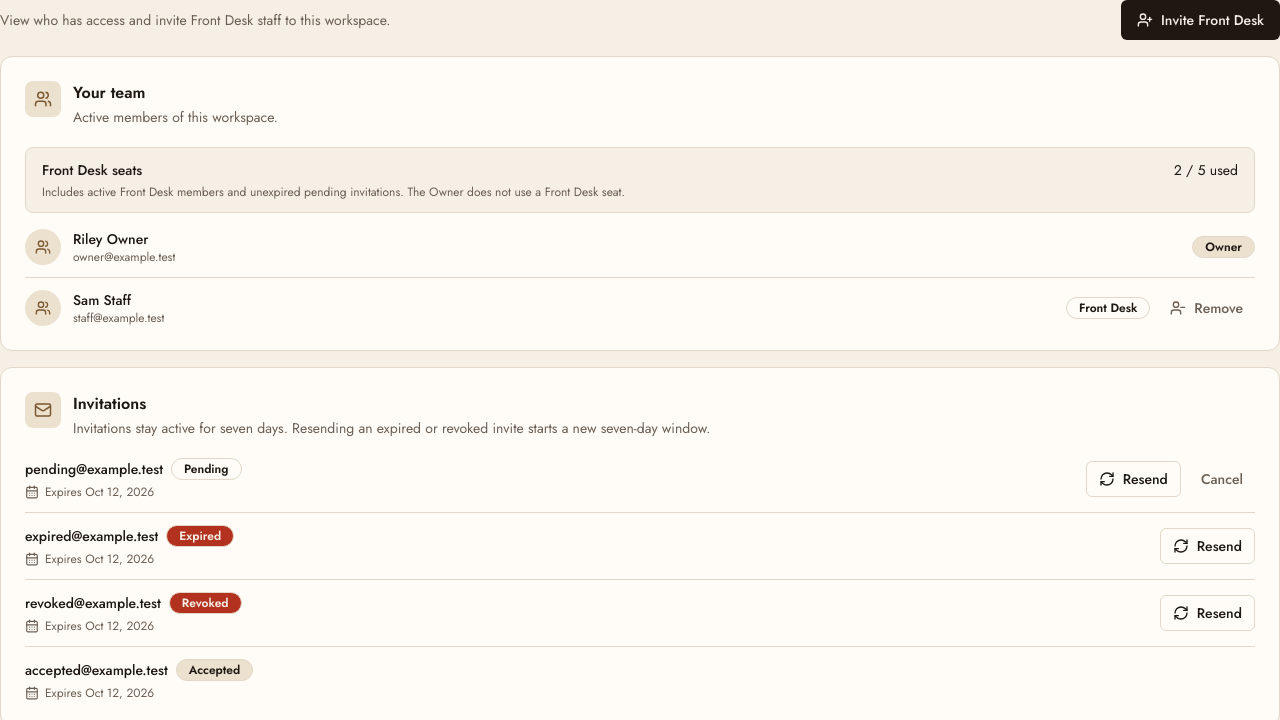
Test: MembersSettingsPage › creates a fixed-role Front Desk invitation once with an idempotency key
The image size is (1280, 720).
Click the button "Invite Front Desk".
click(1200, 20)  # box [1121,0,1279,40]
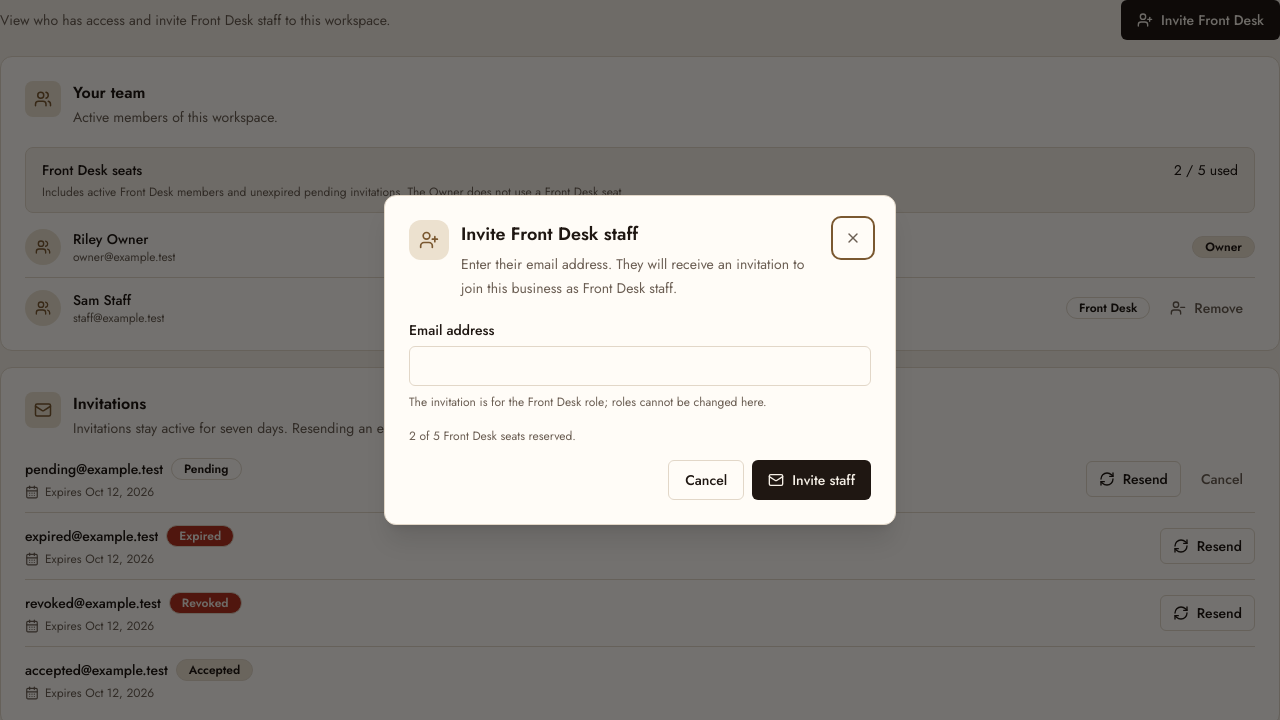
Type "new@example.test" into the field labelled "Email address".
click(640, 366); type("new@example.test")  # box [409,346,871,386]
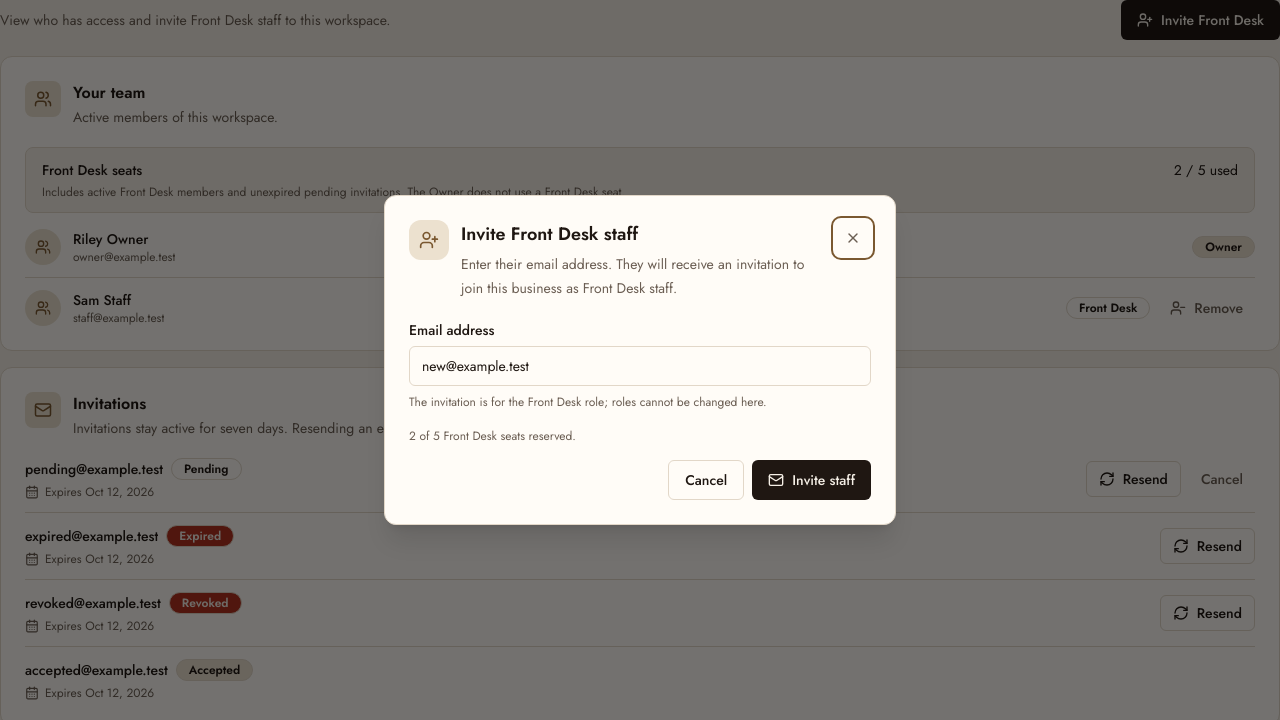
Expected: the form named "Invite staff" is shown
Submit the form named "Invite staff", box [409,320,871,500]
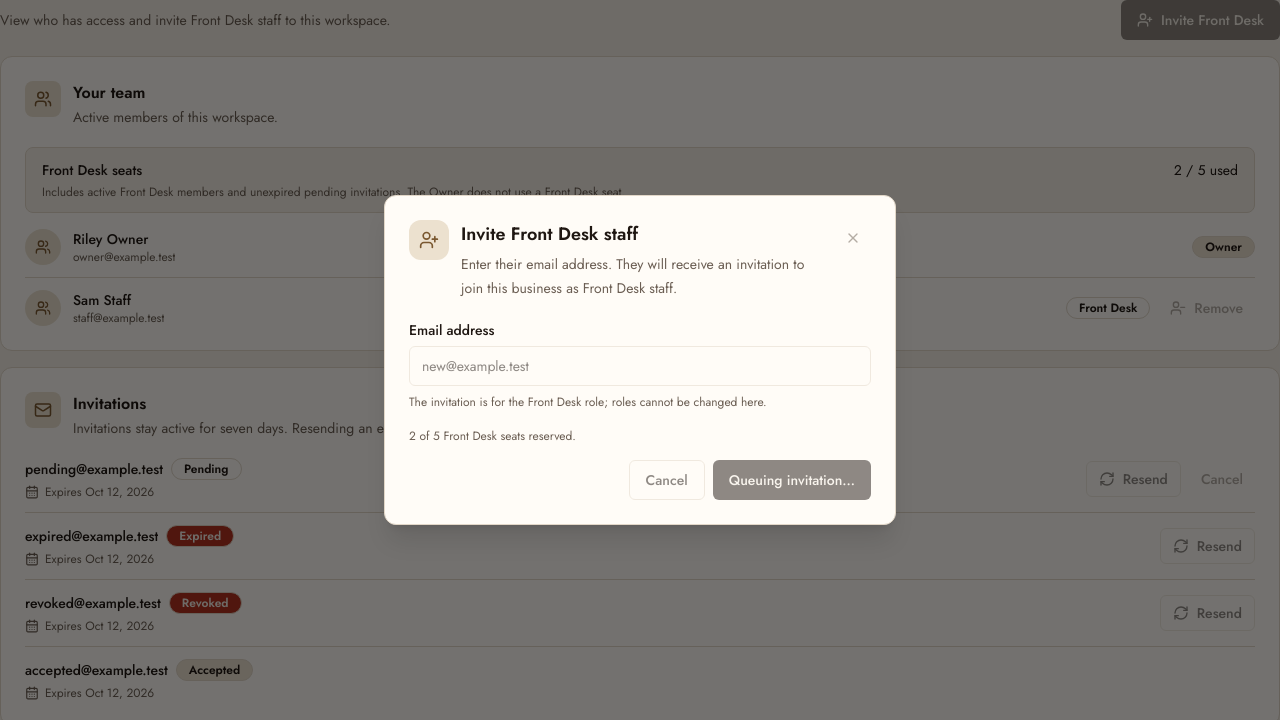
Submit the form named "Invite staff", box [409,320,871,500]
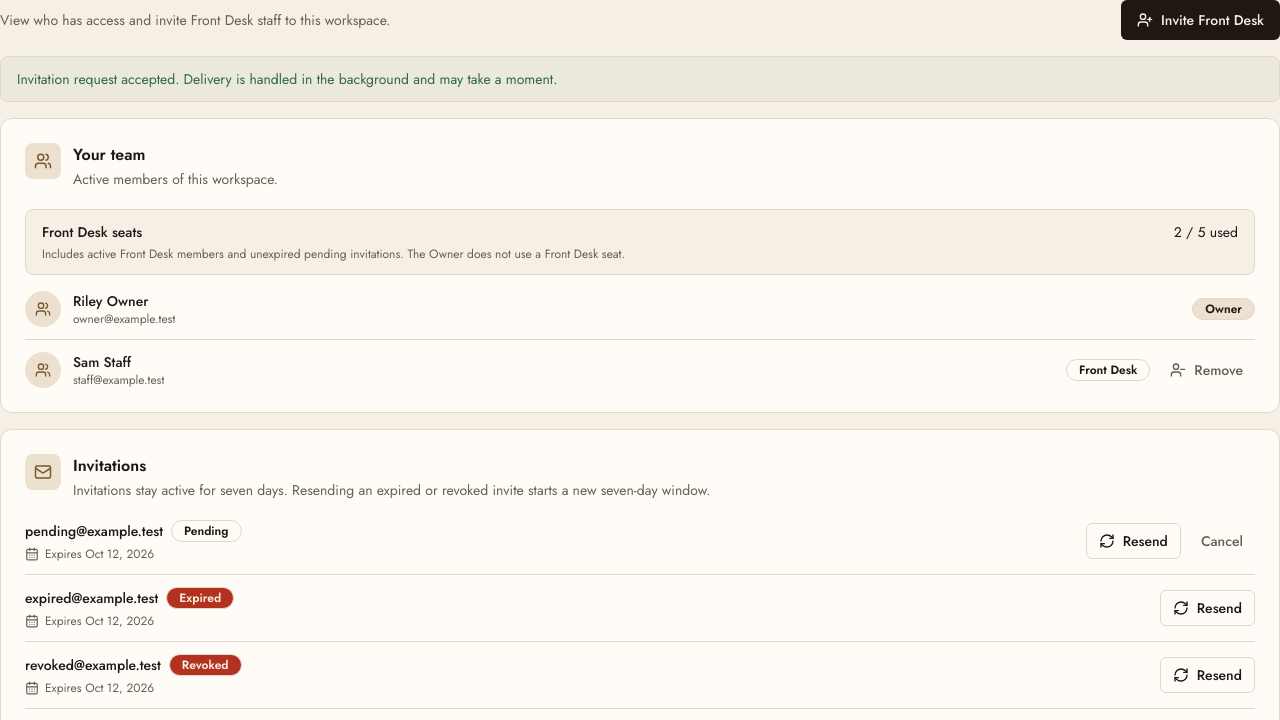
Expected: the text "Delivery is handled in the background" is shown, [17,69,557,89]
